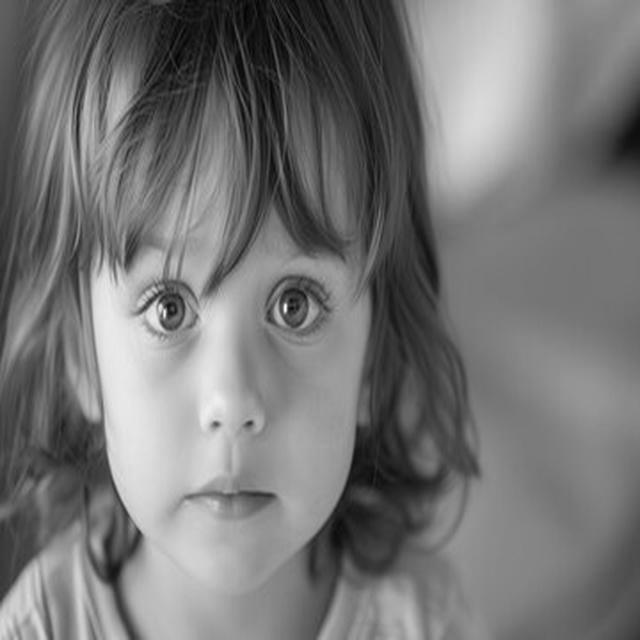Neutral: (91, 93, 370, 596)
